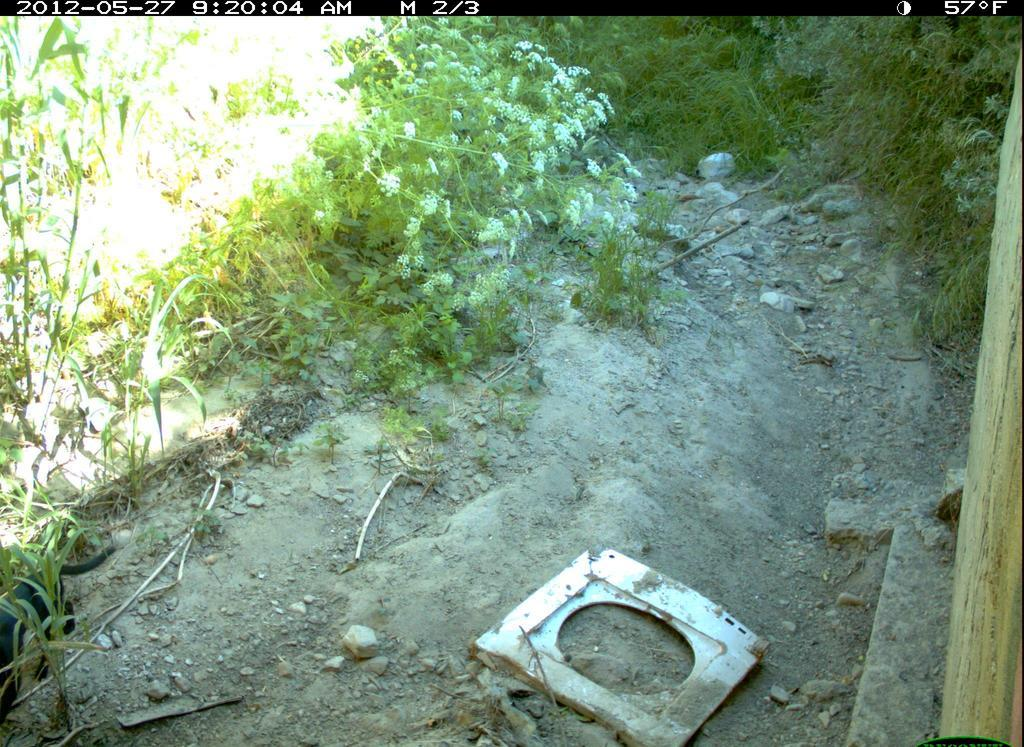cat: (2, 538, 122, 722)
